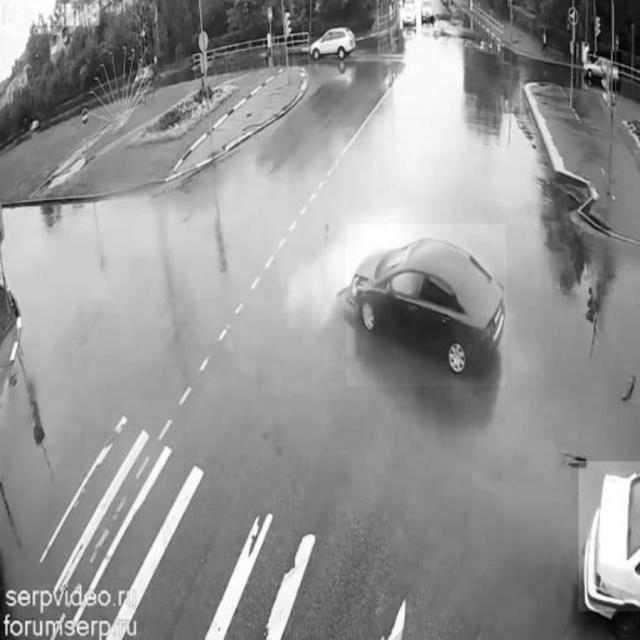vehicle: (346, 224, 506, 386), (579, 461, 640, 611), (308, 23, 364, 69), (585, 51, 622, 91), (421, 0, 438, 30), (401, 4, 421, 29)
